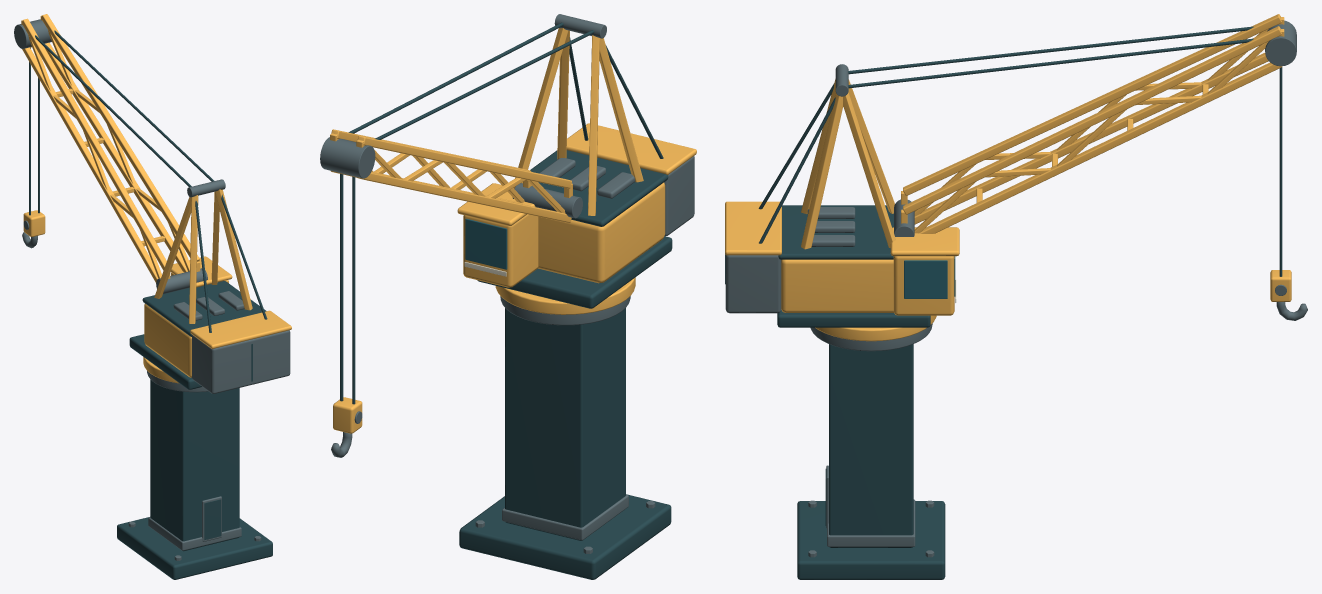
The model's file is d09_cranes_01.glb.
3 renders of one model, left to right at view 1: azimuth 30°, elevation 25°; view 2: azimuth 150°, elevation 25°; view 3: azimuth 270°, elevation 25°, orthographic. The views are drawn at different scales.
Parts seen in each view (by area): view 1: D09Cranes01_Mesh; view 2: D09Cranes01_Mesh; view 3: D09Cranes01_Mesh.
Boxes of the visible parts, box(x1,y1,x2,y2) form: D09Cranes01_Mesh: box(14, 14, 291, 579); D09Cranes01_Mesh: box(320, 14, 696, 579); D09Cranes01_Mesh: box(725, 14, 1307, 579).
Bounding box in the file's own units: 5.6 × 22.07 × 22.04.
